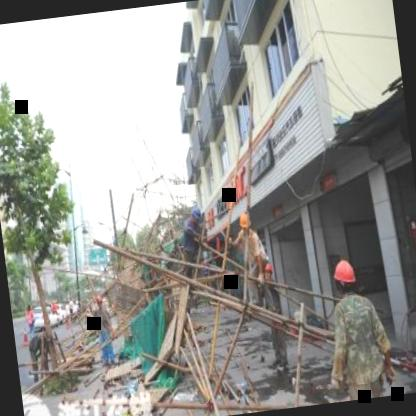helmet: (330, 257, 361, 298), (258, 258, 274, 281), (237, 211, 252, 234), (188, 202, 202, 224)
